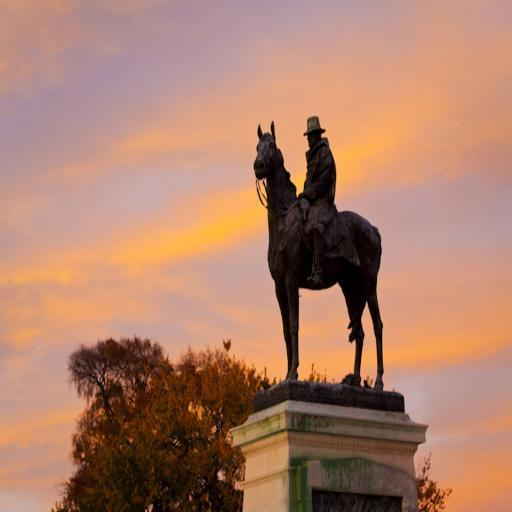horse: (252, 121, 386, 388)
